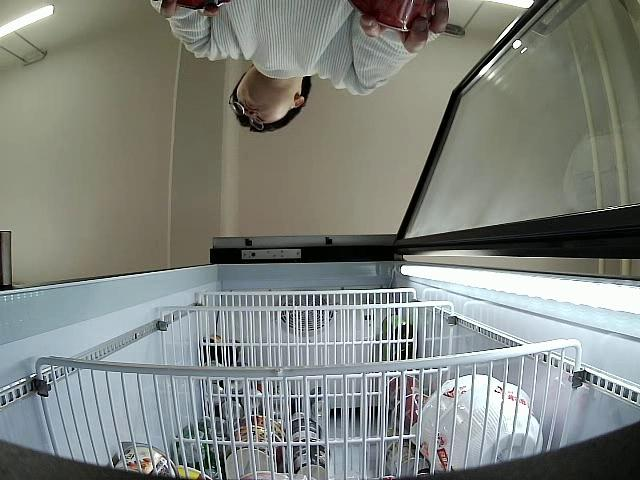00_hand: (360, 0, 449, 53), (156, 0, 235, 22)
02_shinRamen_S: (350, 0, 437, 31)
